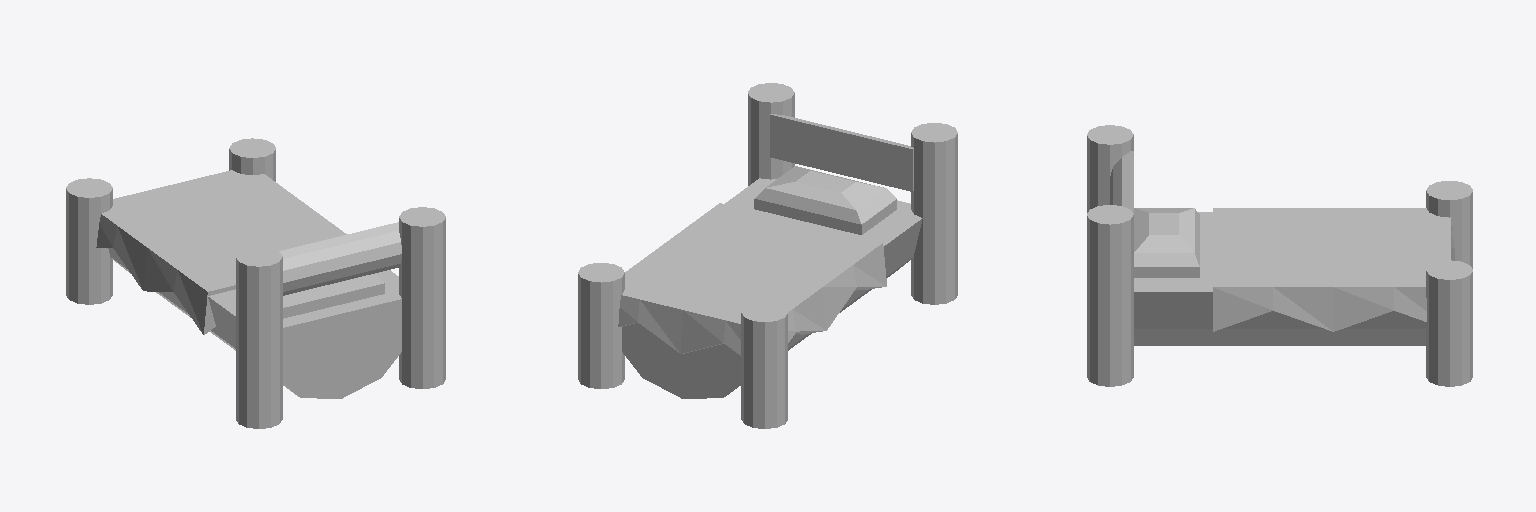
Rendered from bed_single_solargrove.obj.
3 views of the same model, side by side, from view 1: azimuth 30°, elevation 25°; view 2: azimuth 150°, elevation 25°; view 3: azimuth 270°, elevation 25° (orthographic).
Visible parts, largest first — view 1: bed_solar_grove; view 2: bed_solar_grove; view 3: bed_solar_grove.
Part boxes in pixels (x1,y1,x2,y2): bed_solar_grove: (66,138,445,428); bed_solar_grove: (578,83,957,428); bed_solar_grove: (1087,125,1472,386).
Bounding box in the file's own units: 1 × 0.76 × 1.64.